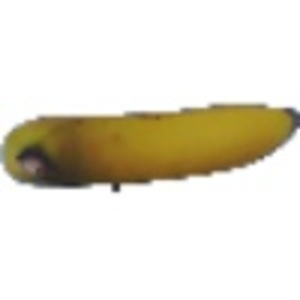banana: (1, 100, 300, 186)
